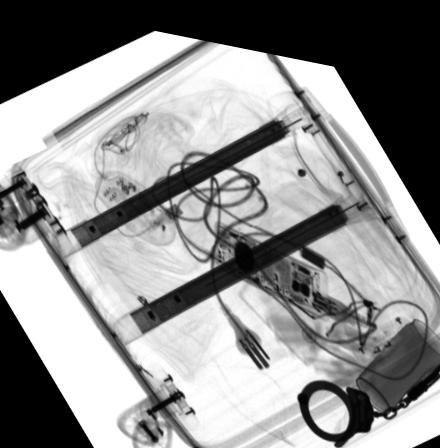HandCuffs: (295, 339, 440, 433)
